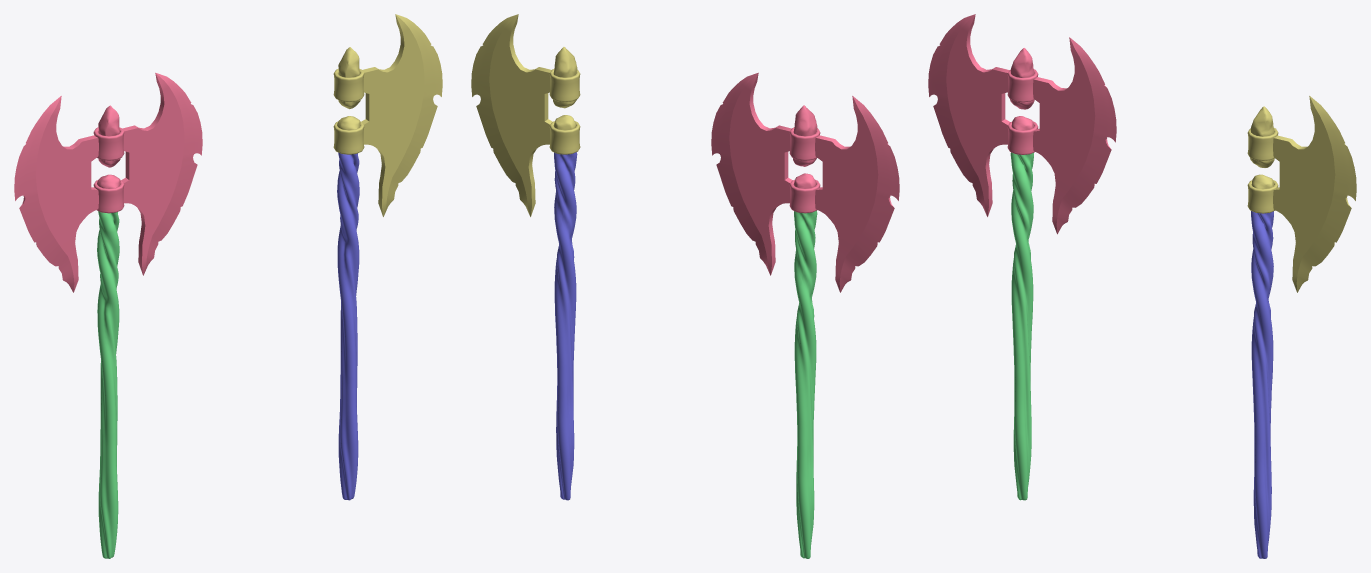
The model's file is baltalar.fbx.
The picture shows the model from 3 angles, left to right: view 1: azimuth 30°, elevation 25°; view 2: azimuth 150°, elevation 25°; view 3: azimuth 330°, elevation 25°; orthographic projection.
Visible parts, largest first — view 1: uzunbalta002, coklubalta, ciftbalta; view 2: uzunbalta002, coklubalta, ciftbalta; view 3: uzunbalta002, coklubalta, ciftbalta.
Boxes of the visible parts, x1,y1,x2,y2 form: uzunbalta002: (14,72,202,292); coklubalta: (333,14,442,500); ciftbalta: (97,211,119,558); uzunbalta002: (711,72,899,292); coklubalta: (471,14,580,500); ciftbalta: (794,210,817,558); uzunbalta002: (928,14,1116,234); coklubalta: (1247,96,1356,558); ciftbalta: (1010,152,1033,500).
Bounding box in the file's own units: 132 × 139 × 8.12.
